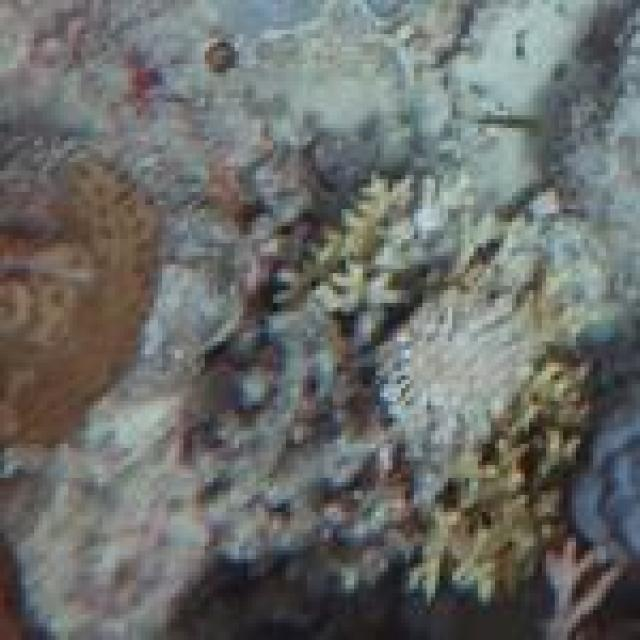Bleached Coral: (371, 297, 561, 478)
